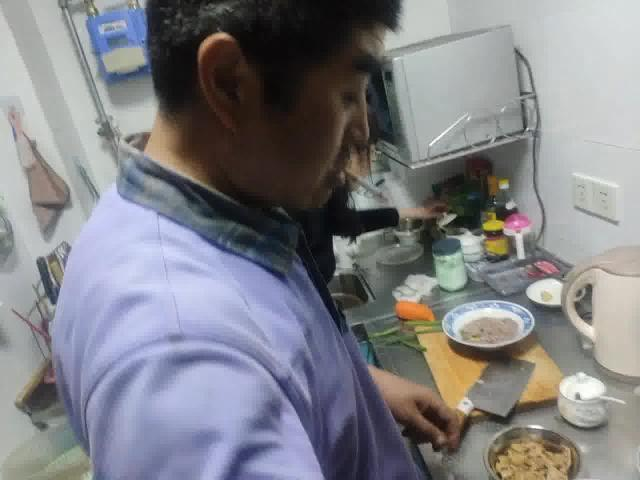Smoking: (342, 166, 384, 198)
